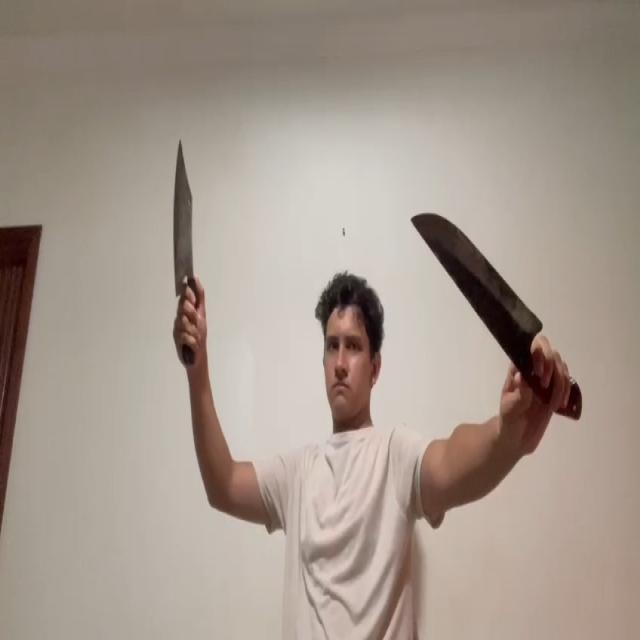knife: (410, 210, 543, 336), (172, 136, 195, 292)
